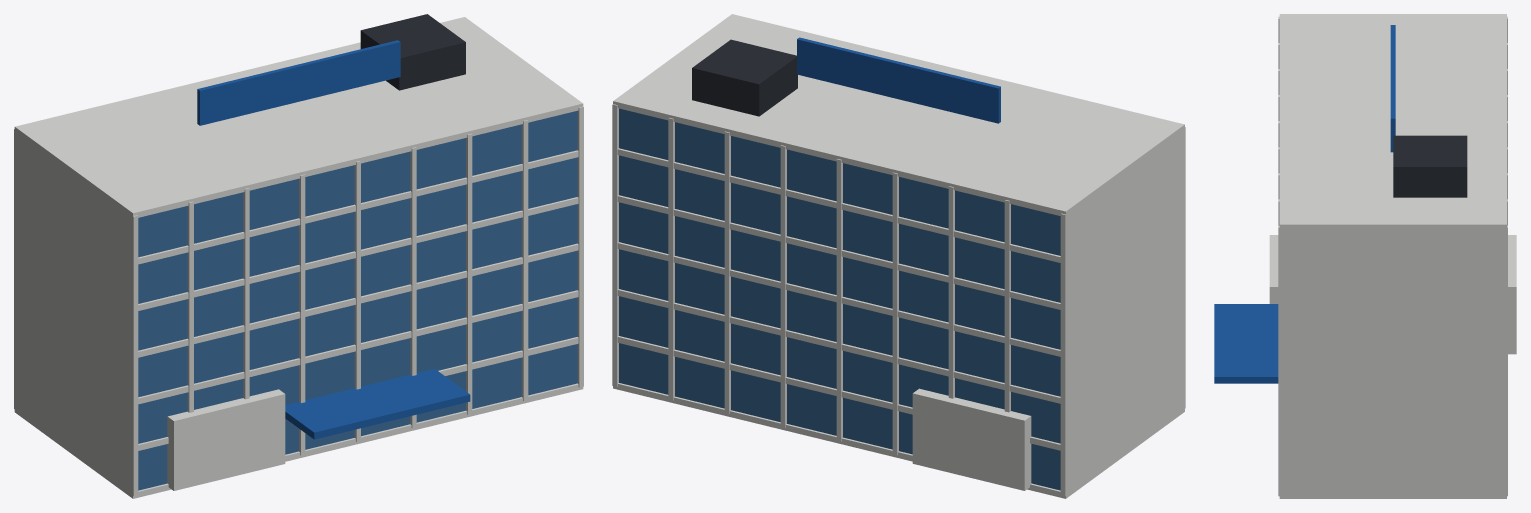
File: port_office.glb
3 renders of one model, left to right at view 1: azimuth 30°, elevation 25°; view 2: azimuth 150°, elevation 25°; view 3: azimuth 270°, elevation 25°, orthographic. The views are drawn at different scales.
Parts seen in each view (by area): view 1: office; view 2: office; view 3: office.
Boxes of the visible parts, x1,y1,x2,y2 form: office: (14, 14, 583, 498); office: (612, 14, 1185, 498); office: (1214, 14, 1516, 498).
Bounding box in the file's own units: 40.4 × 28.75 × 24.5.
